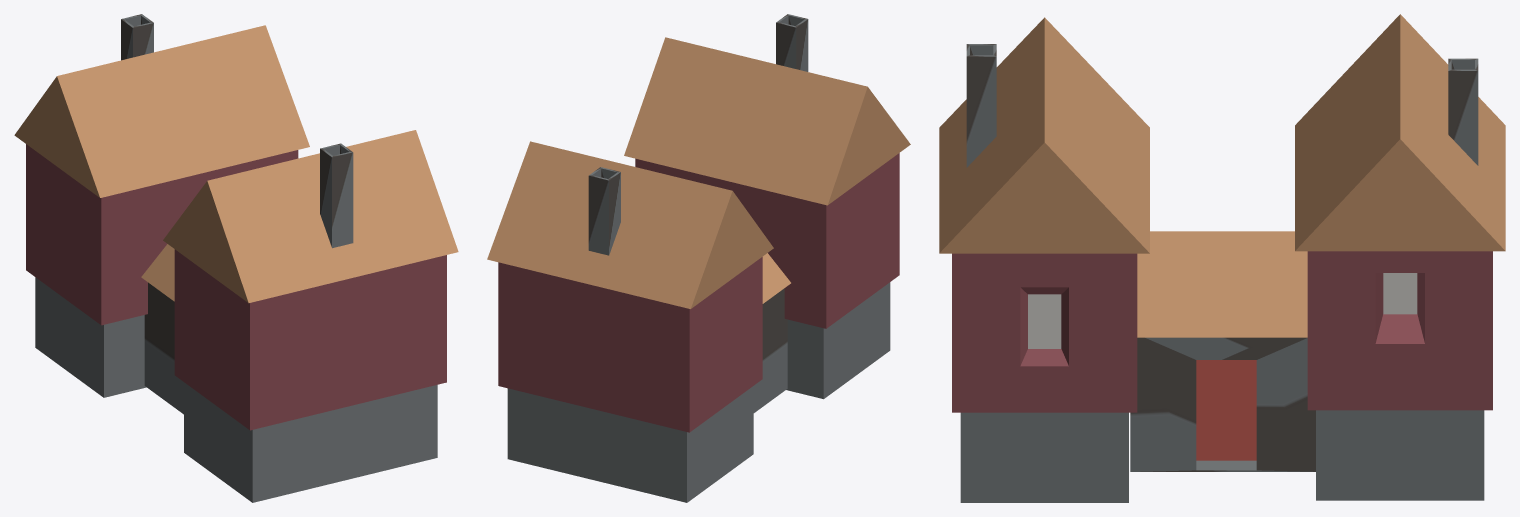
Rendered from Casa1.fbx.
The picture shows the model from 3 angles, left to right: view 1: azimuth 30°, elevation 25°; view 2: azimuth 150°, elevation 25°; view 3: azimuth 270°, elevation 25°; orthographic projection. The views are drawn at different scales.
Parts seen in each view (by area): view 1: CasasMediavais.001; view 2: CasasMediavais.001; view 3: CasasMediavais.001.
Part boxes in pixels (<box>): CasasMediavais.001: <box>14,14,458,502</box>; CasasMediavais.001: <box>487,14,910,502</box>; CasasMediavais.001: <box>939,14,1505,502</box>.
Bounding box in the file's own units: 2473 × 3571 × 4614.
